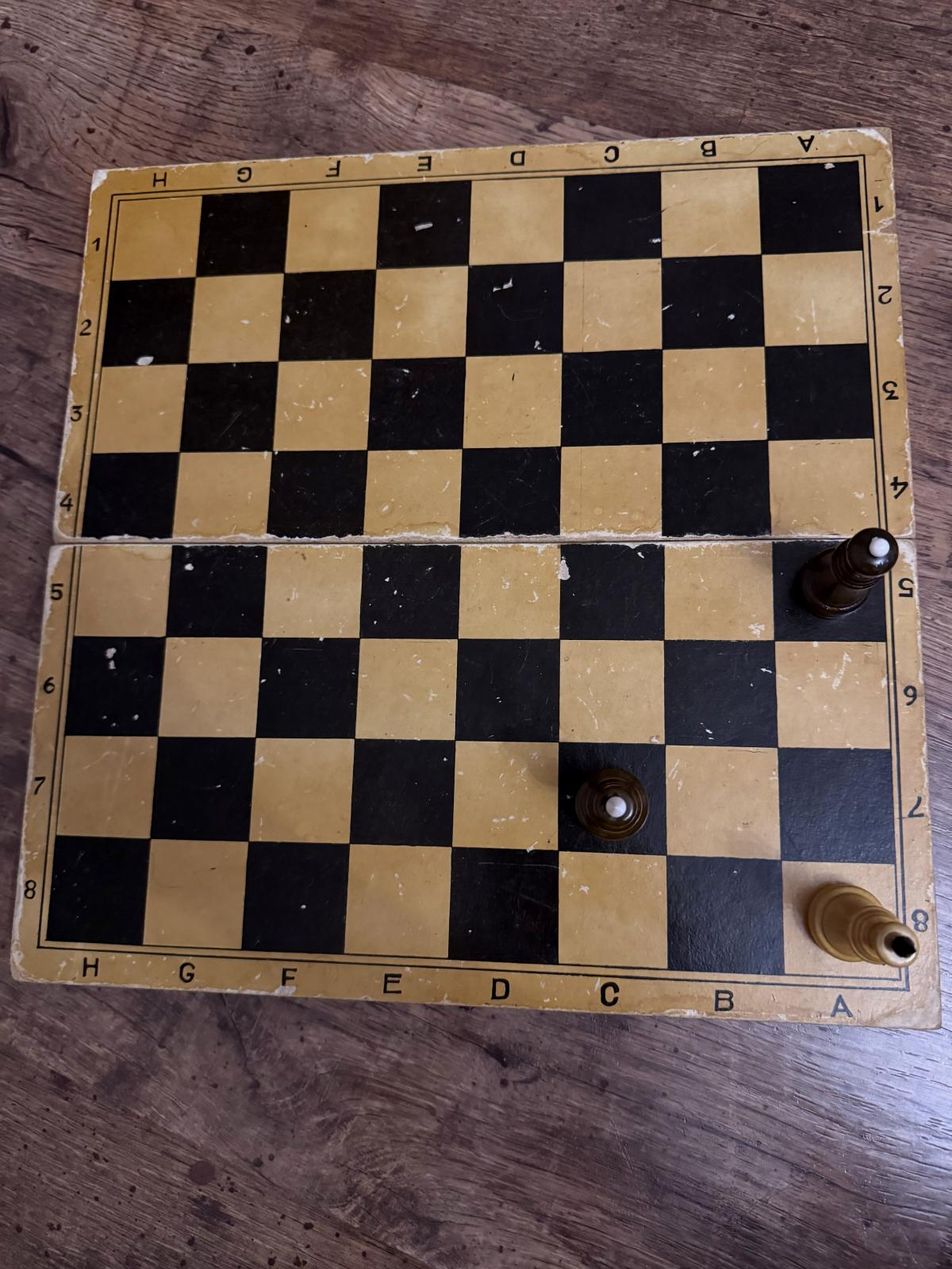Chess-Board: (46, 161, 900, 978)
